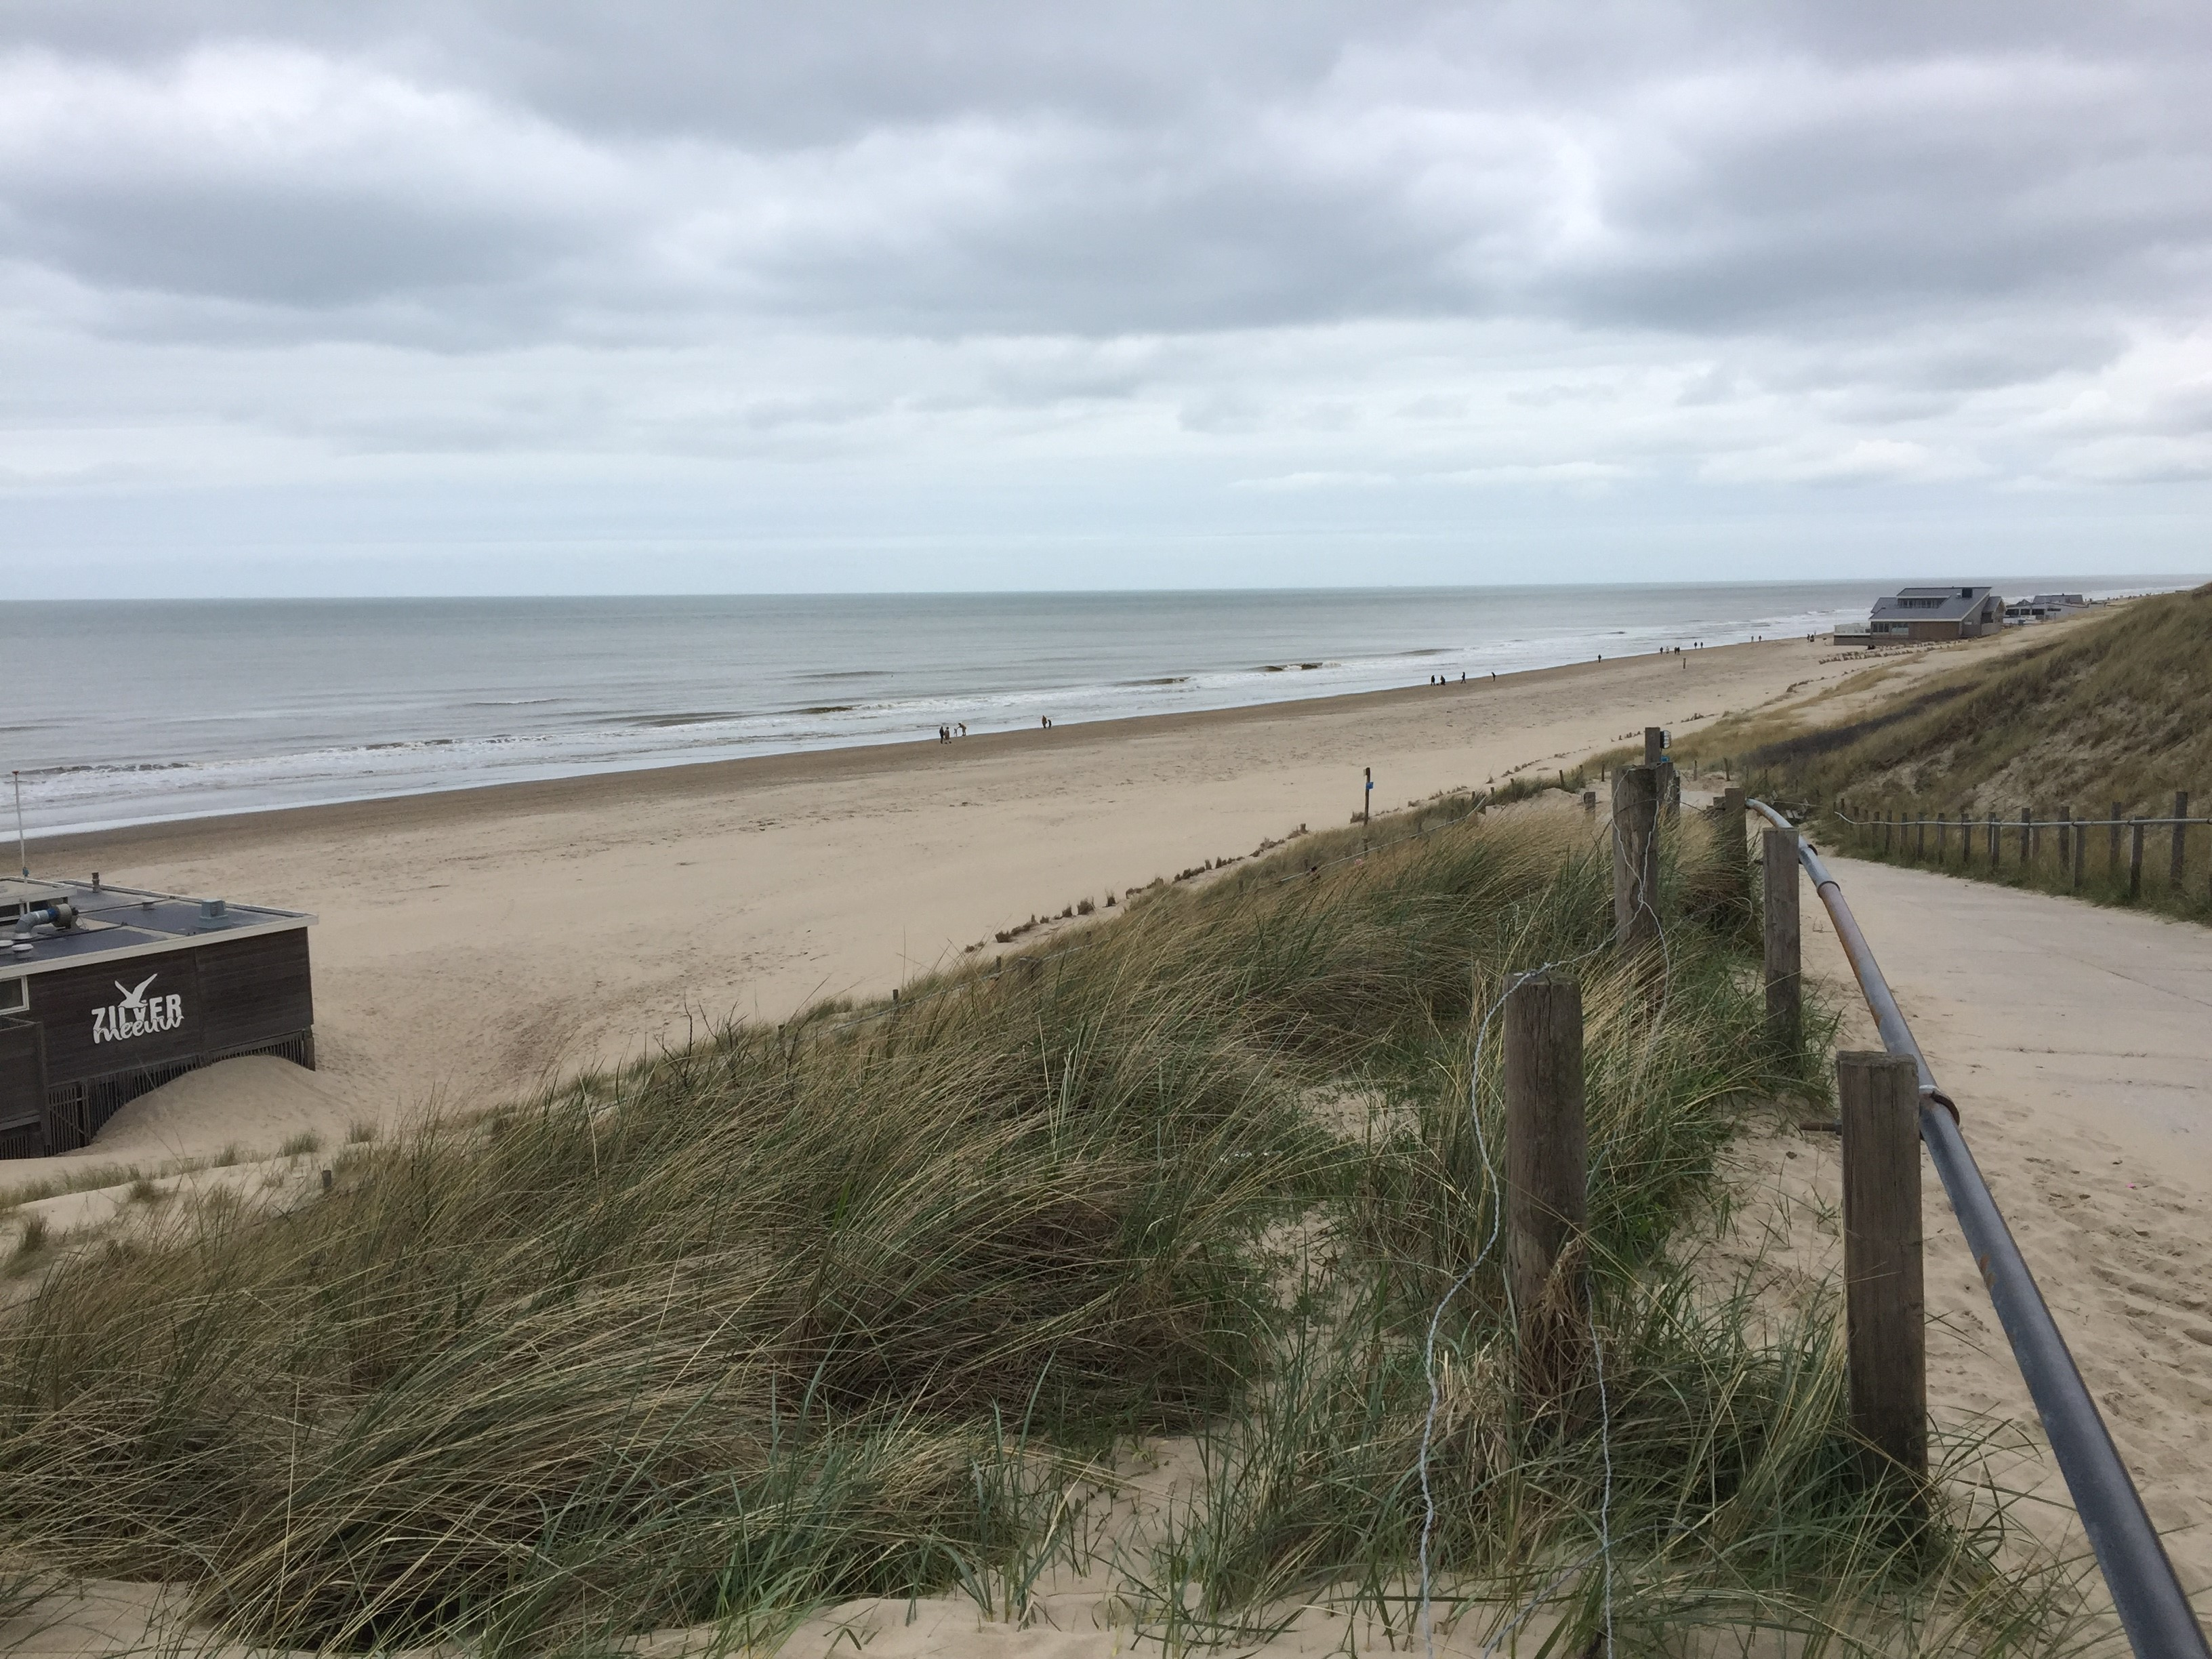pad: (1721, 779, 2212, 1527)
